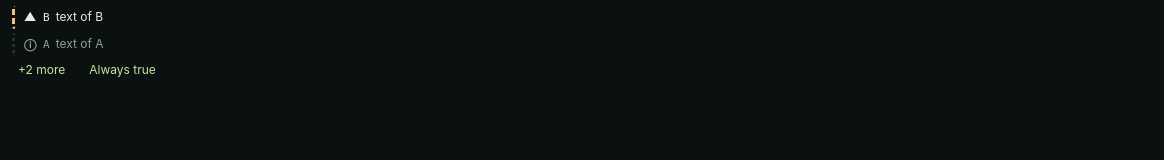
Scenario: "+2 more" opens the full list
What coordinates should you click on to do the following:
click the button "+2 more"
I would click on:
 (42, 70)
Its box is x1=12 y1=60 x2=71 y2=80.
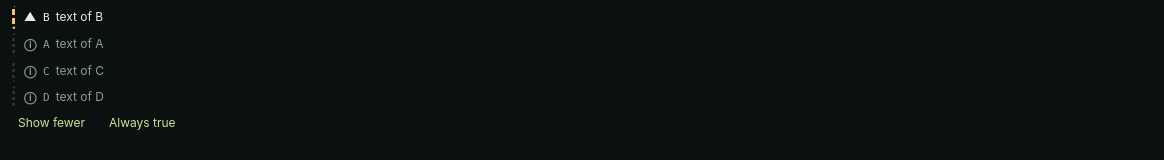
Expected: the number of list items is 4, x1=12 y1=6 x2=1163 y2=29; x1=12 y1=33 x2=1163 y2=56; x1=12 y1=60 x2=1163 y2=82; x1=12 y1=86 x2=1163 y2=109
